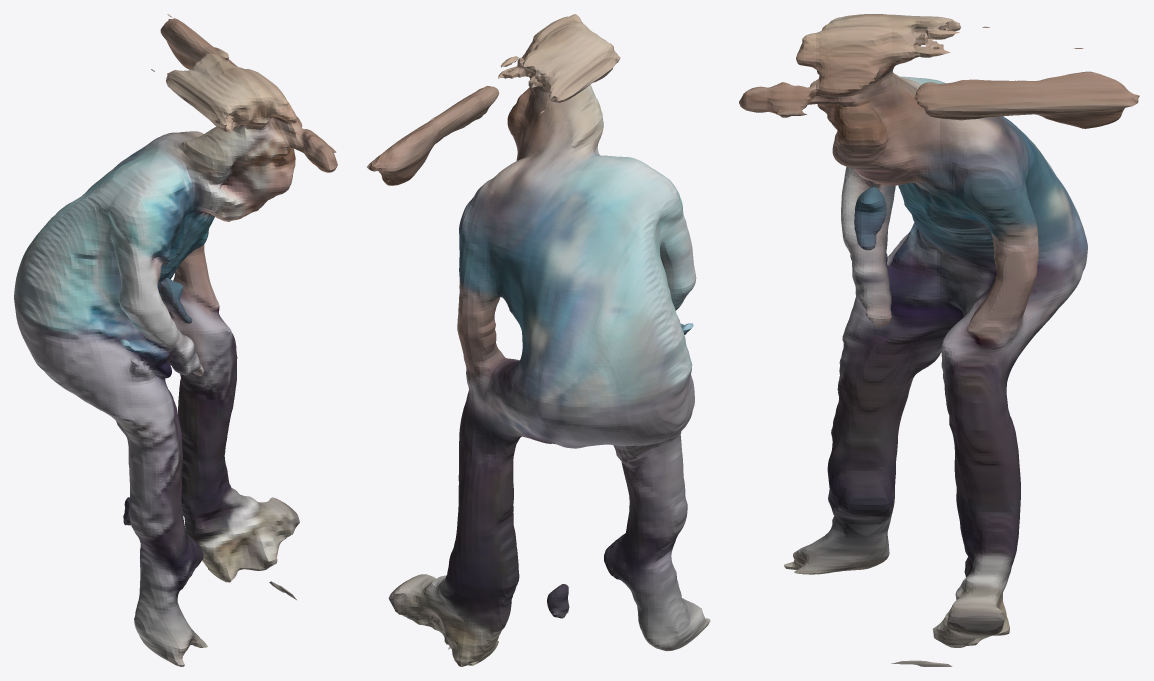
File: 0069_tex.glb
3 views of the same model, side by side, from view 1: azimuth 30°, elevation 25°; view 2: azimuth 150°, elevation 25°; view 3: azimuth 270°, elevation 25° (orthographic). The views are drawn at different scales.
Visible parts, largest first — view 1: 0069_tex.obj; view 2: 0069_tex.obj; view 3: 0069_tex.obj.
Part boxes in pixels (bbox=[...]): 0069_tex.obj: bbox=[14, 14, 337, 666]; 0069_tex.obj: bbox=[367, 14, 710, 666]; 0069_tex.obj: bbox=[739, 14, 1139, 666].
Bounding box in the file's own units: 0.4292 × 0.8756 × 0.5176.
